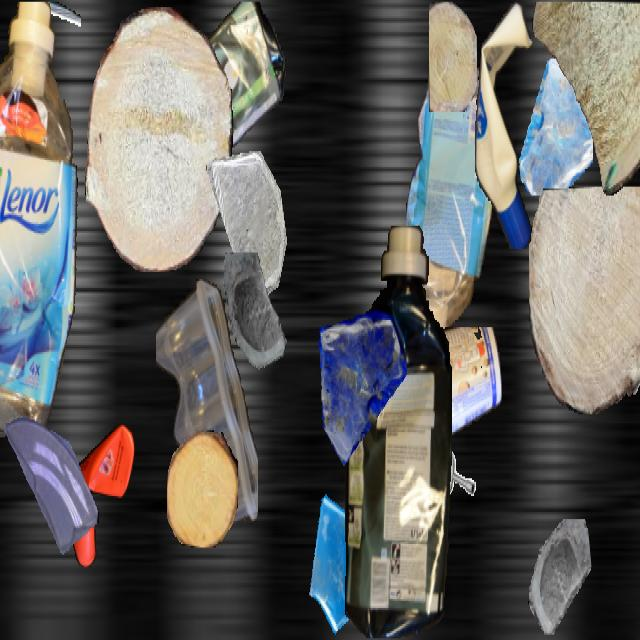glass: (4, 402, 98, 569), (313, 306, 407, 473), (305, 478, 395, 638), (206, 151, 290, 301), (219, 253, 297, 391), (516, 58, 592, 194), (527, 519, 591, 633)
metal: (18, 2, 80, 112), (434, 448, 482, 533)
plastic: (344, 226, 452, 638), (0, 2, 80, 446), (131, 2, 287, 183), (406, 62, 492, 372), (156, 279, 258, 532), (0, 164, 67, 448), (475, 2, 539, 247), (402, 327, 502, 452), (61, 425, 135, 567)
wood: (84, 7, 232, 270), (529, 187, 640, 414), (532, 2, 640, 194), (167, 430, 237, 548), (429, 2, 477, 112)
